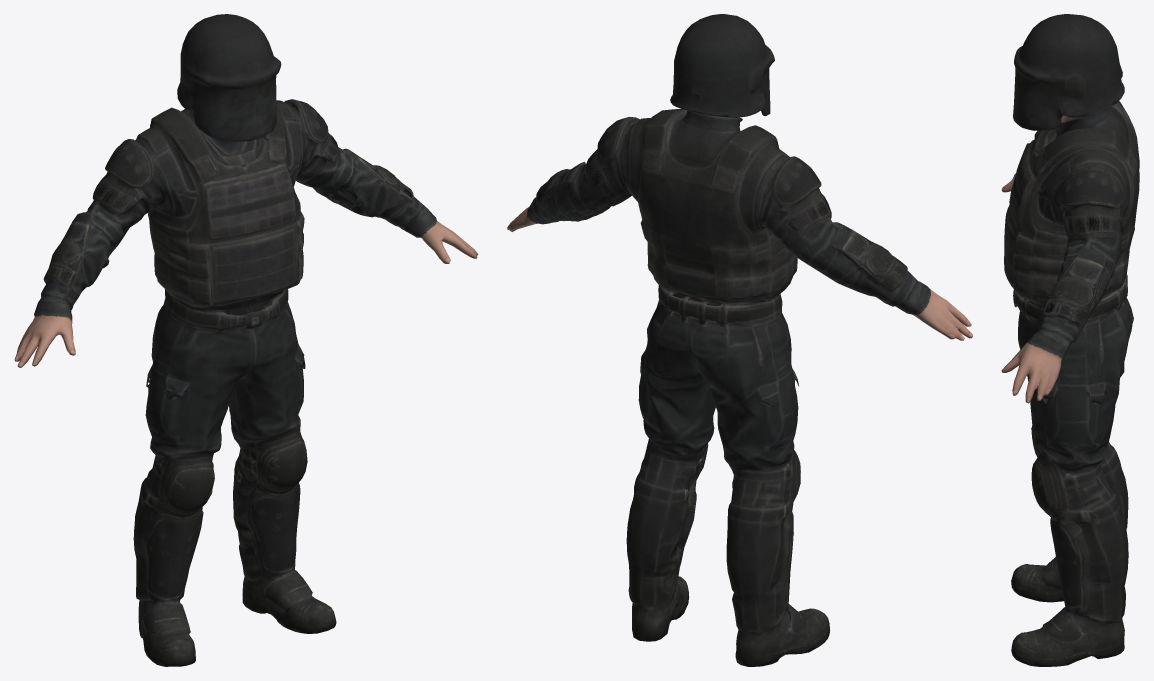
Rendered from sol_shield.glb.
3 renders of one model, left to right at view 1: azimuth 30°, elevation 25°; view 2: azimuth 150°, elevation 25°; view 3: azimuth 270°, elevation 25°, orthographic.
Size of the model in its own units: 0.7578 by 0.9646 by 0.1991.
Materials: 1 (1 with a texture image).
